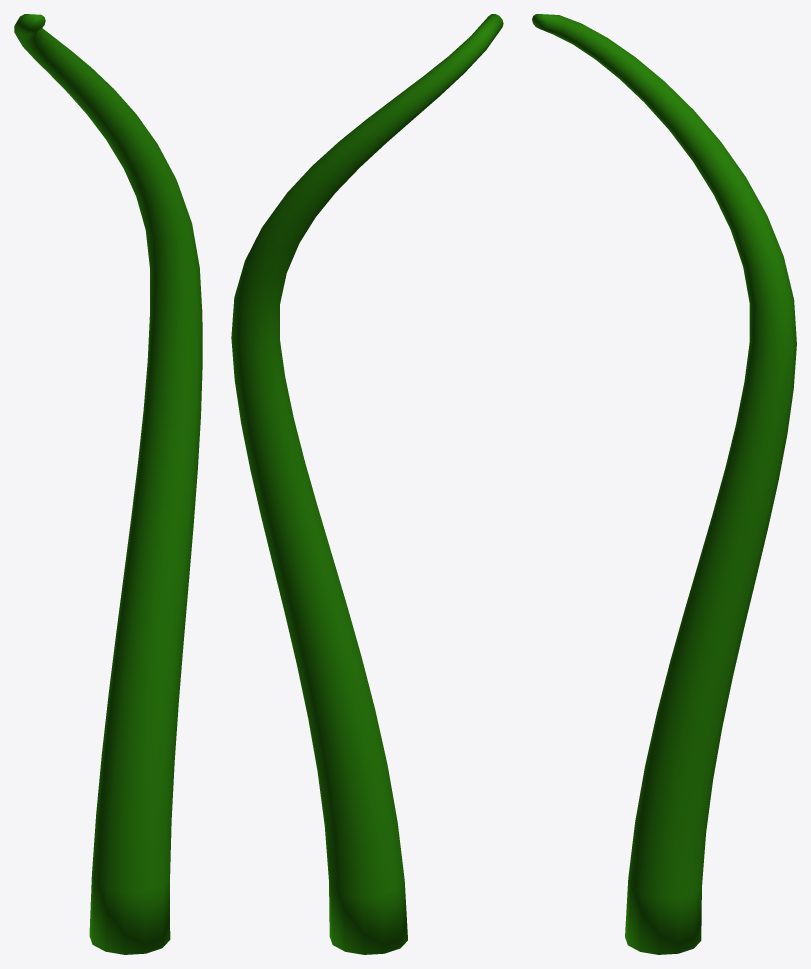
File: FlowerStem1.fbx
3 views of the same model, side by side, from view 1: azimuth 30°, elevation 25°; view 2: azimuth 150°, elevation 25°; view 3: azimuth 330°, elevation 25° (orthographic). The views are drawn at different scales.
Parts seen in each view (by area): view 1: Stem1; view 2: Stem1; view 3: Stem1.
Part boxes in pixels (x1,y1,x2,y2): Stem1: (14,14,202,954); Stem1: (231,14,503,954); Stem1: (532,14,796,954).
Bounding box in the file's own units: 48.6 × 202 × 26.84.
